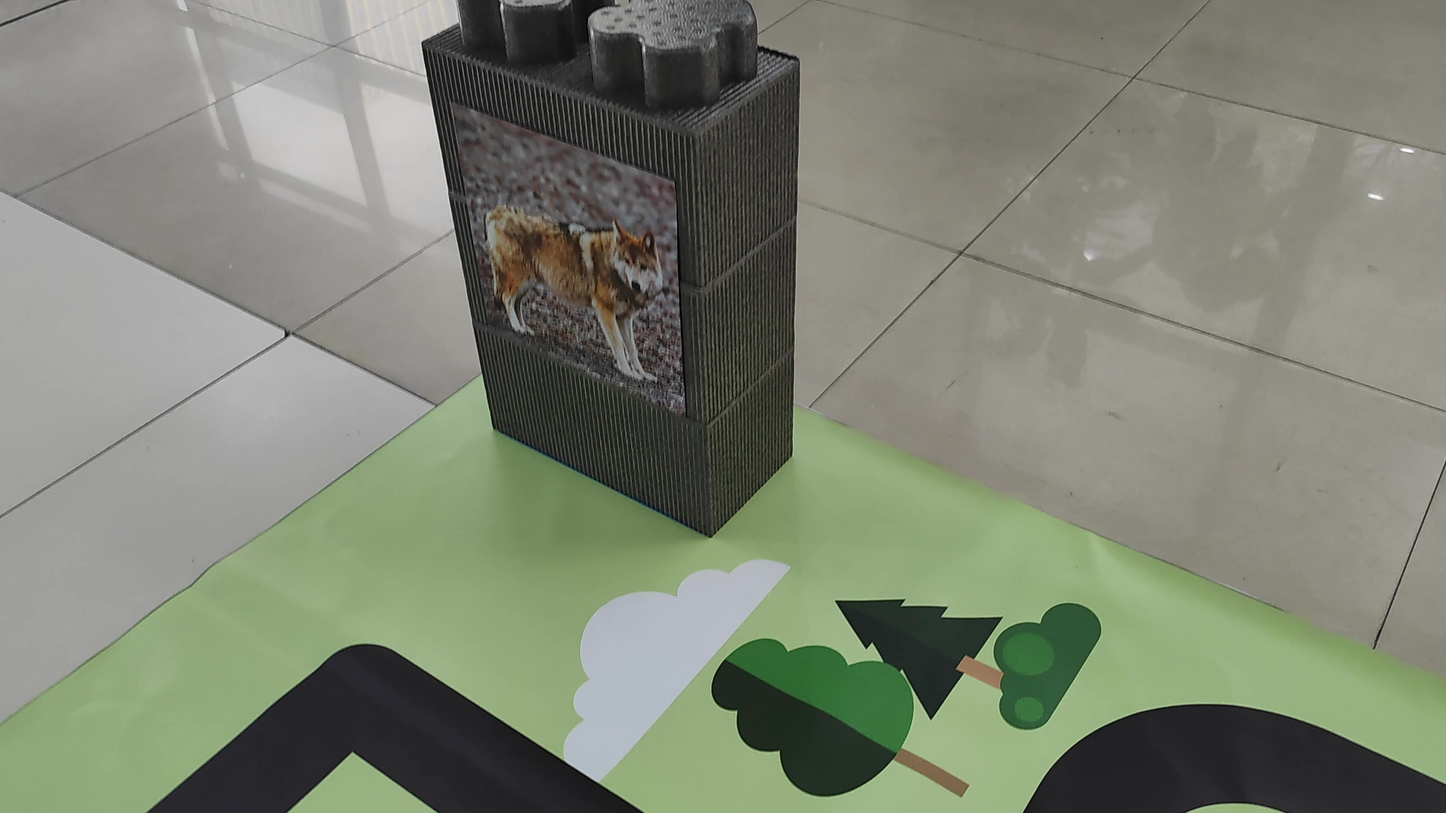wolf: (458, 117, 680, 392)
